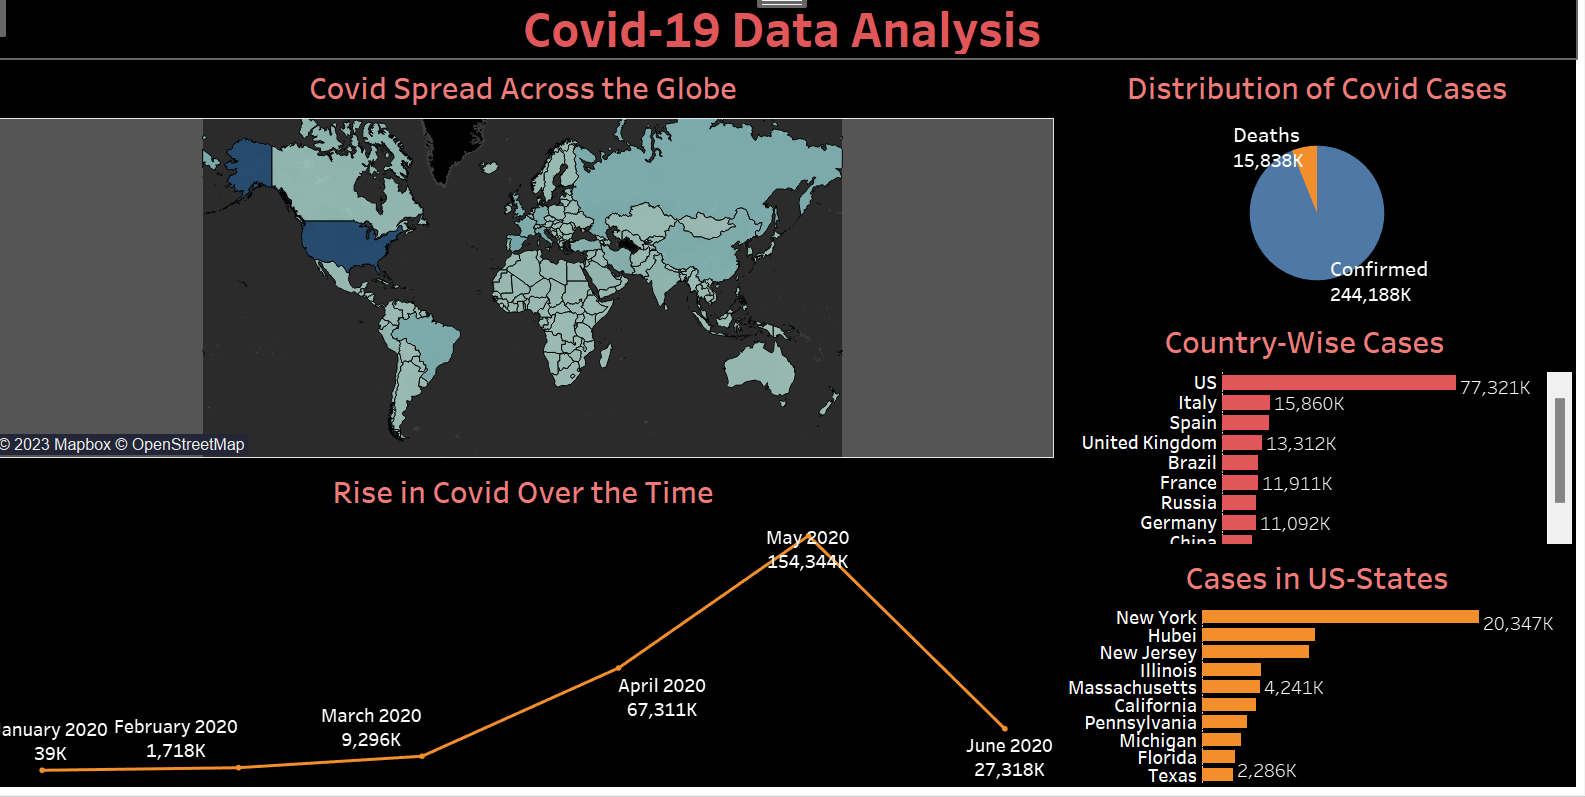

Layout of this report page (visuals, bound fields, positions):
{"tool":"tableau","page":{"name":"Dashboard 1","canvas":[1000,1000],"units":"permille","ordinal":0},"visuals":[{"type":"text","box":[5,9.9,990,75.6]},{"type":"worksheet","title":"Map","mark":"Automatic","box":[5,85.5,666.8,501.4]},{"type":"worksheet","title":"Sheet 4","mark":"Pie","box":[671.8,85.5,323.2,315.2]},{"type":"worksheet","title":"Sheet 5","mark":"Automatic","rows":["Country_Region"],"cols":["Cases"],"box":[671.8,400.8,323.2,293]},{"type":"worksheet","title":"Sheet 3","mark":"Automatic","rows":["Cases"],"cols":["Date"],"box":[5,586.9,666.8,403.1]},{"type":"worksheet","title":"Sheet 2","mark":"Automatic","rows":["Province_State"],"cols":["Cases"],"box":[671.8,693.7,323.2,296.4]}]}

Visuals, with their boxes on the dashboard's canvas, which has no fixed pixel size, in thousandths of its width and height (x1, y1, x2, y2). These are canvas units, not pixel positions in the 1585x797 screenshot, which may show the page scaled, cropped or inside an application window:
text: 5 10 995 86
"Map" worksheet: 5 86 672 587
"Sheet 4" worksheet (Pie marks): 672 86 995 401
"Sheet 5" worksheet: 672 401 995 694
"Sheet 3" worksheet: 5 587 672 990
"Sheet 2" worksheet: 672 694 995 990
